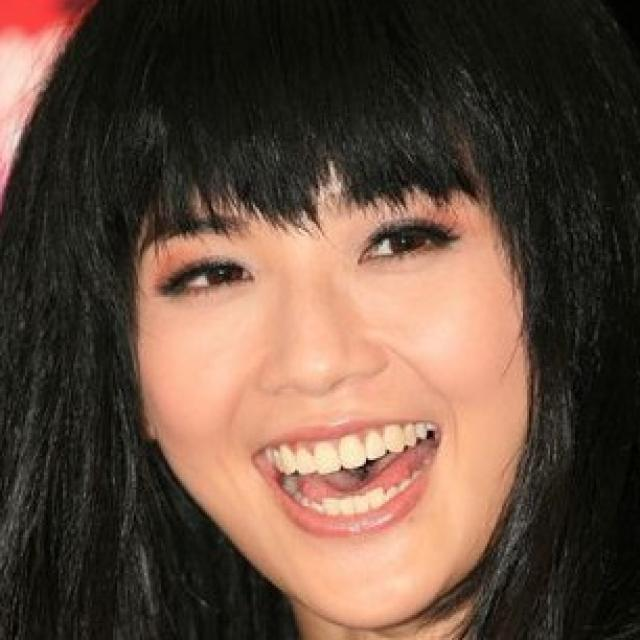Normal: (125, 95, 560, 632)
